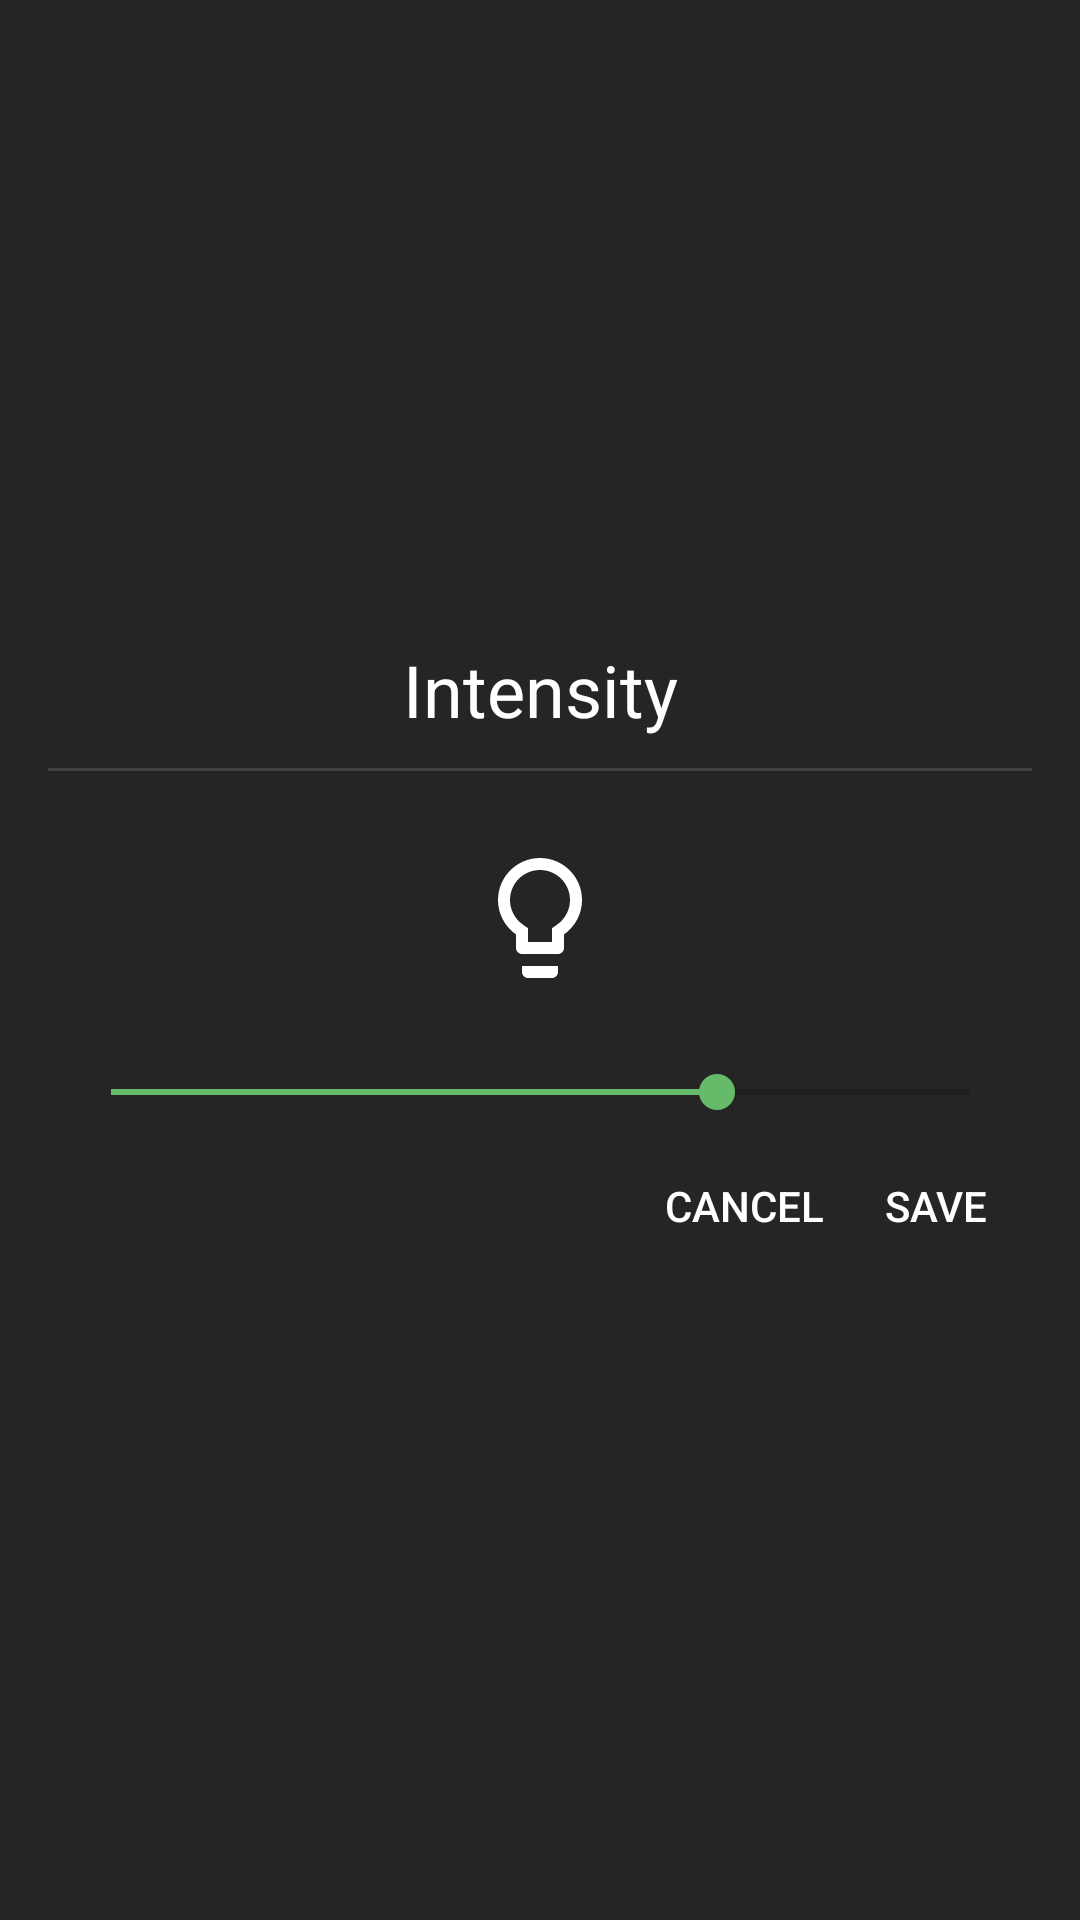

Point at icon controls on the screen. Image size 1080 × 1920, points as point (x, y).
lightbulb: point (540, 918)
